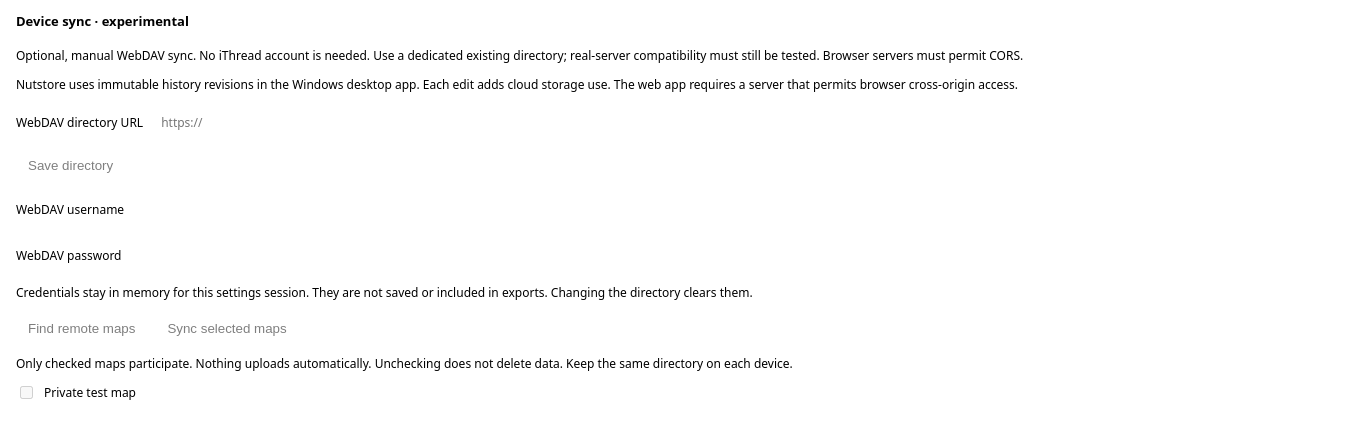
Test case: manual sync settings › does not contact a server on mount, configuration or map selection
Expected: the checkbox labelled "Private test map" is shown, [20, 386, 33, 399]
Type "https://example.test/maps/" into the field labelled "WebDAV directory URL". click: {"x": 753, "y": 122}
box: [155, 104, 1350, 140]
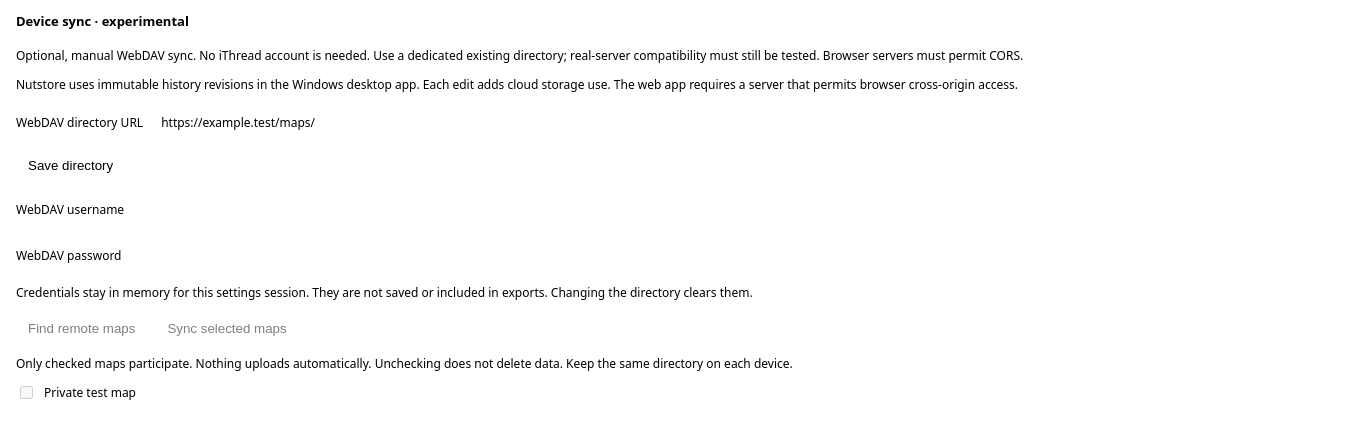
Click the button "Save directory". click: {"x": 71, "y": 166}
box: [16, 150, 125, 181]
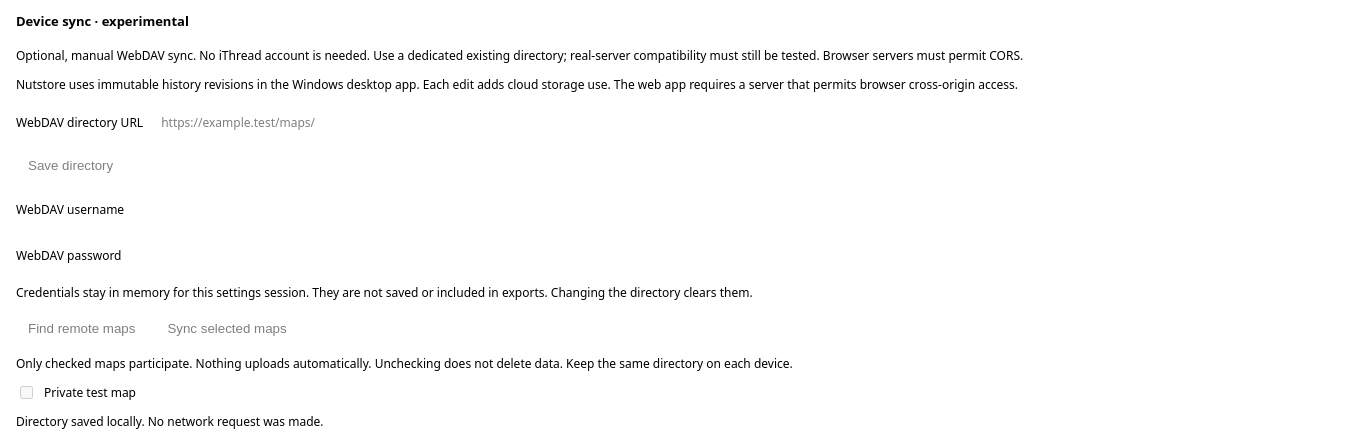
Expected: the text "Directory saved locally. No network request was made." is shown, [16, 413, 324, 430]
Click the checkbox labelled "Private test map". click: {"x": 26, "y": 392}
box: [20, 386, 33, 399]
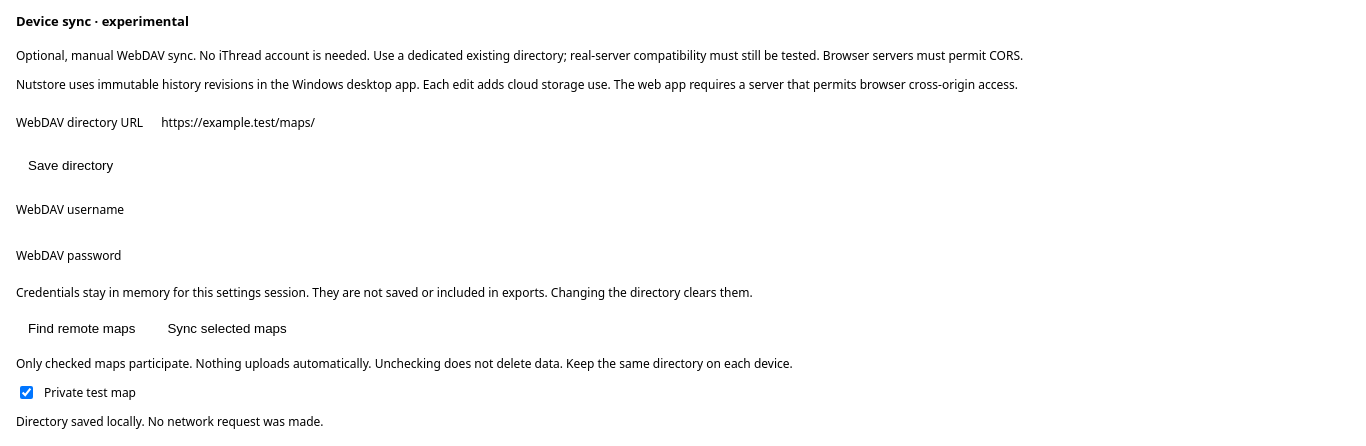
Expected: the button "Sync selected maps" is enabled, [155, 313, 299, 344]
